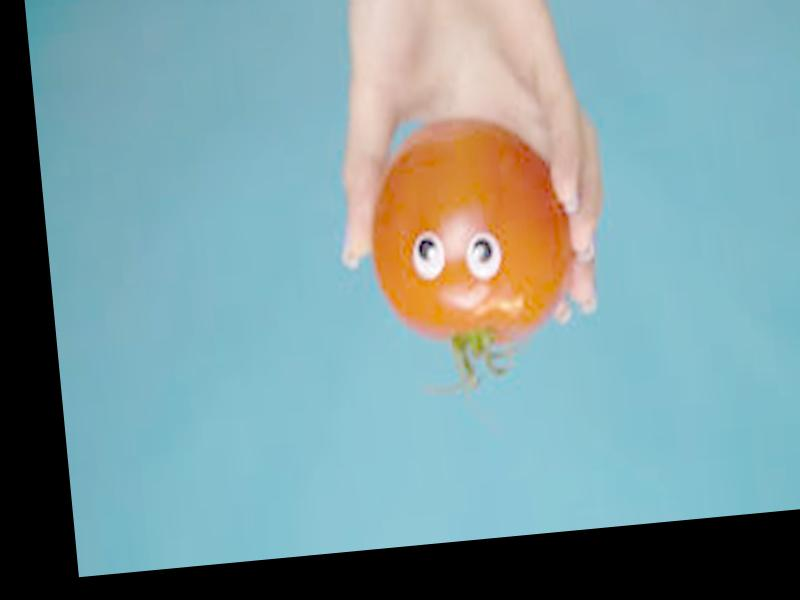Tomato: (358, 107, 582, 358)
